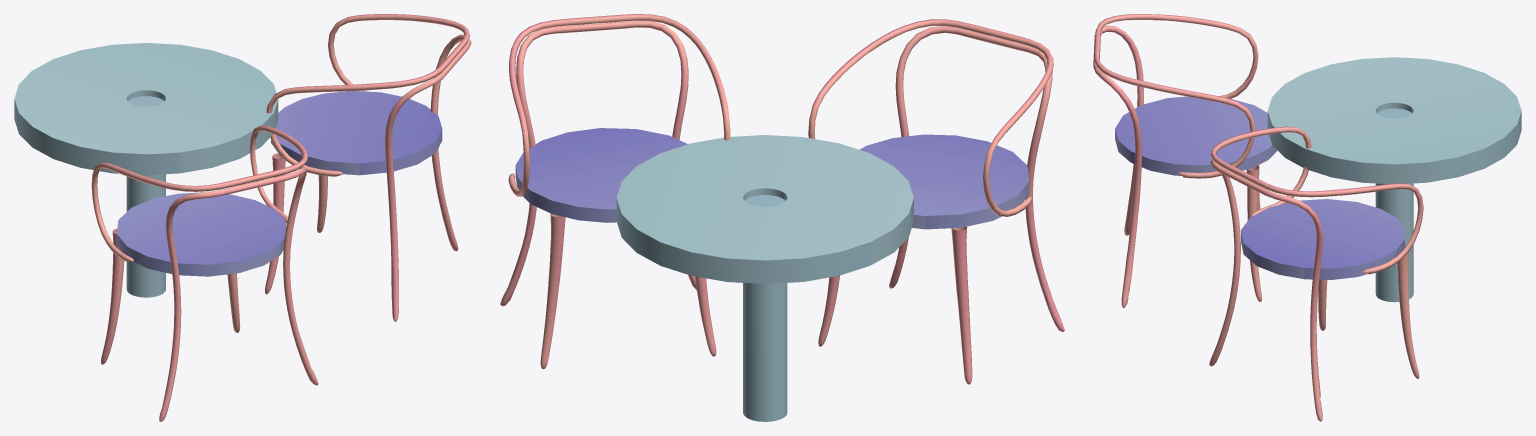
Rendered from chairs.fbx.
3 renders of one model, left to right at view 1: azimuth 30°, elevation 25°; view 2: azimuth 150°, elevation 25°; view 3: azimuth 270°, elevation 25°, orthographic. The views are drawn at different scales.
Parts seen in each view (by area): view 1: Cylinder.033, Retopo_Circle.001, Retopo_Circle.002, Retopo_BezierCurve.001, Retopo_BezierCurve.006; view 2: Cylinder.033, Retopo_BezierCurve.001, Retopo_Circle.001, Retopo_Circle.002, Retopo_BezierCurve.006; view 3: Cylinder.033, Retopo_Circle.002, Retopo_Circle.001, Retopo_BezierCurve.006, Retopo_BezierCurve.001.
Boxes of the visible parts, x1,y1,x2,y2 form: Cylinder.033: [14, 43, 278, 297]; Retopo_Circle.001: [116, 192, 286, 276]; Retopo_Circle.002: [271, 91, 442, 175]; Retopo_BezierCurve.001: [91, 125, 318, 421]; Retopo_BezierCurve.006: [265, 14, 471, 321]; Cylinder.033: [616, 135, 913, 421]; Retopo_BezierCurve.001: [808, 19, 1064, 384]; Retopo_Circle.001: [859, 134, 1028, 229]; Retopo_Circle.002: [515, 128, 687, 222]; Retopo_BezierCurve.006: [500, 14, 730, 369]; Cylinder.033: [1267, 57, 1521, 302]; Retopo_Circle.002: [1241, 199, 1404, 279]; Retopo_Circle.001: [1115, 96, 1277, 175]; Retopo_BezierCurve.006: [1209, 126, 1423, 421]; Retopo_BezierCurve.001: [1093, 14, 1261, 307].
Size of the model in its own units: 2577 by 1454 by 2465.
